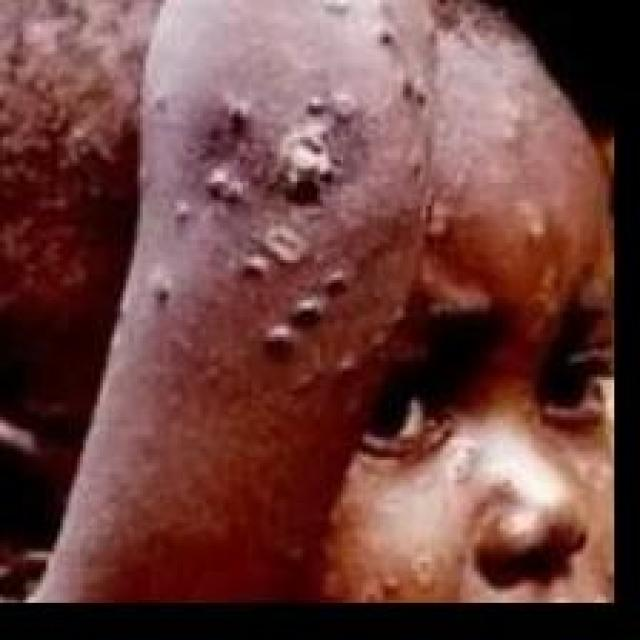monkeypox: (2, 0, 609, 616)
